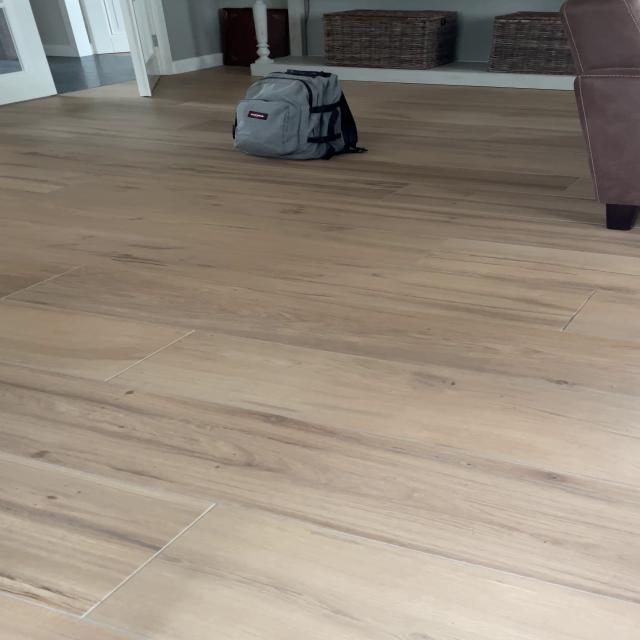backpack: (224, 64, 364, 165)
